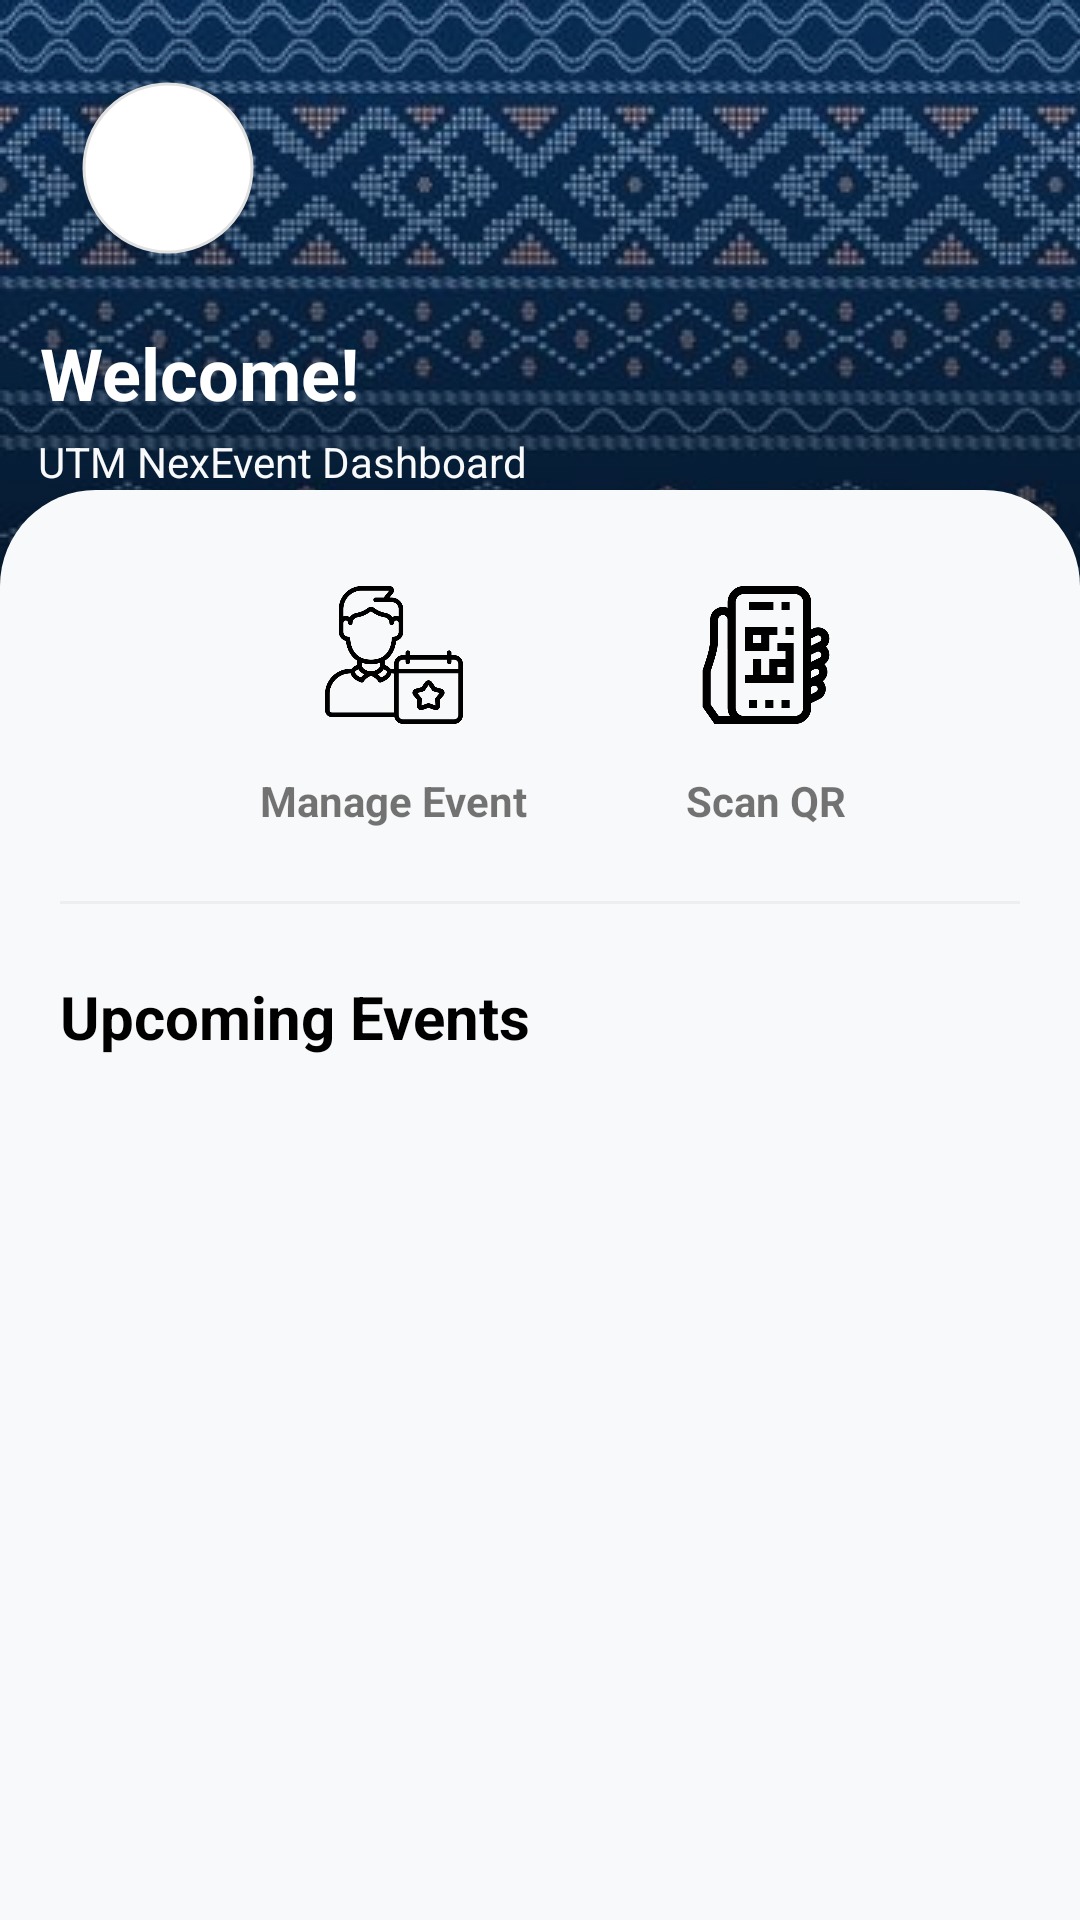

Screen size 1080x1920. Icon name, then its center in pixels as point (x, y):
event planner: point (394, 655)
qr nav: point (766, 655)
